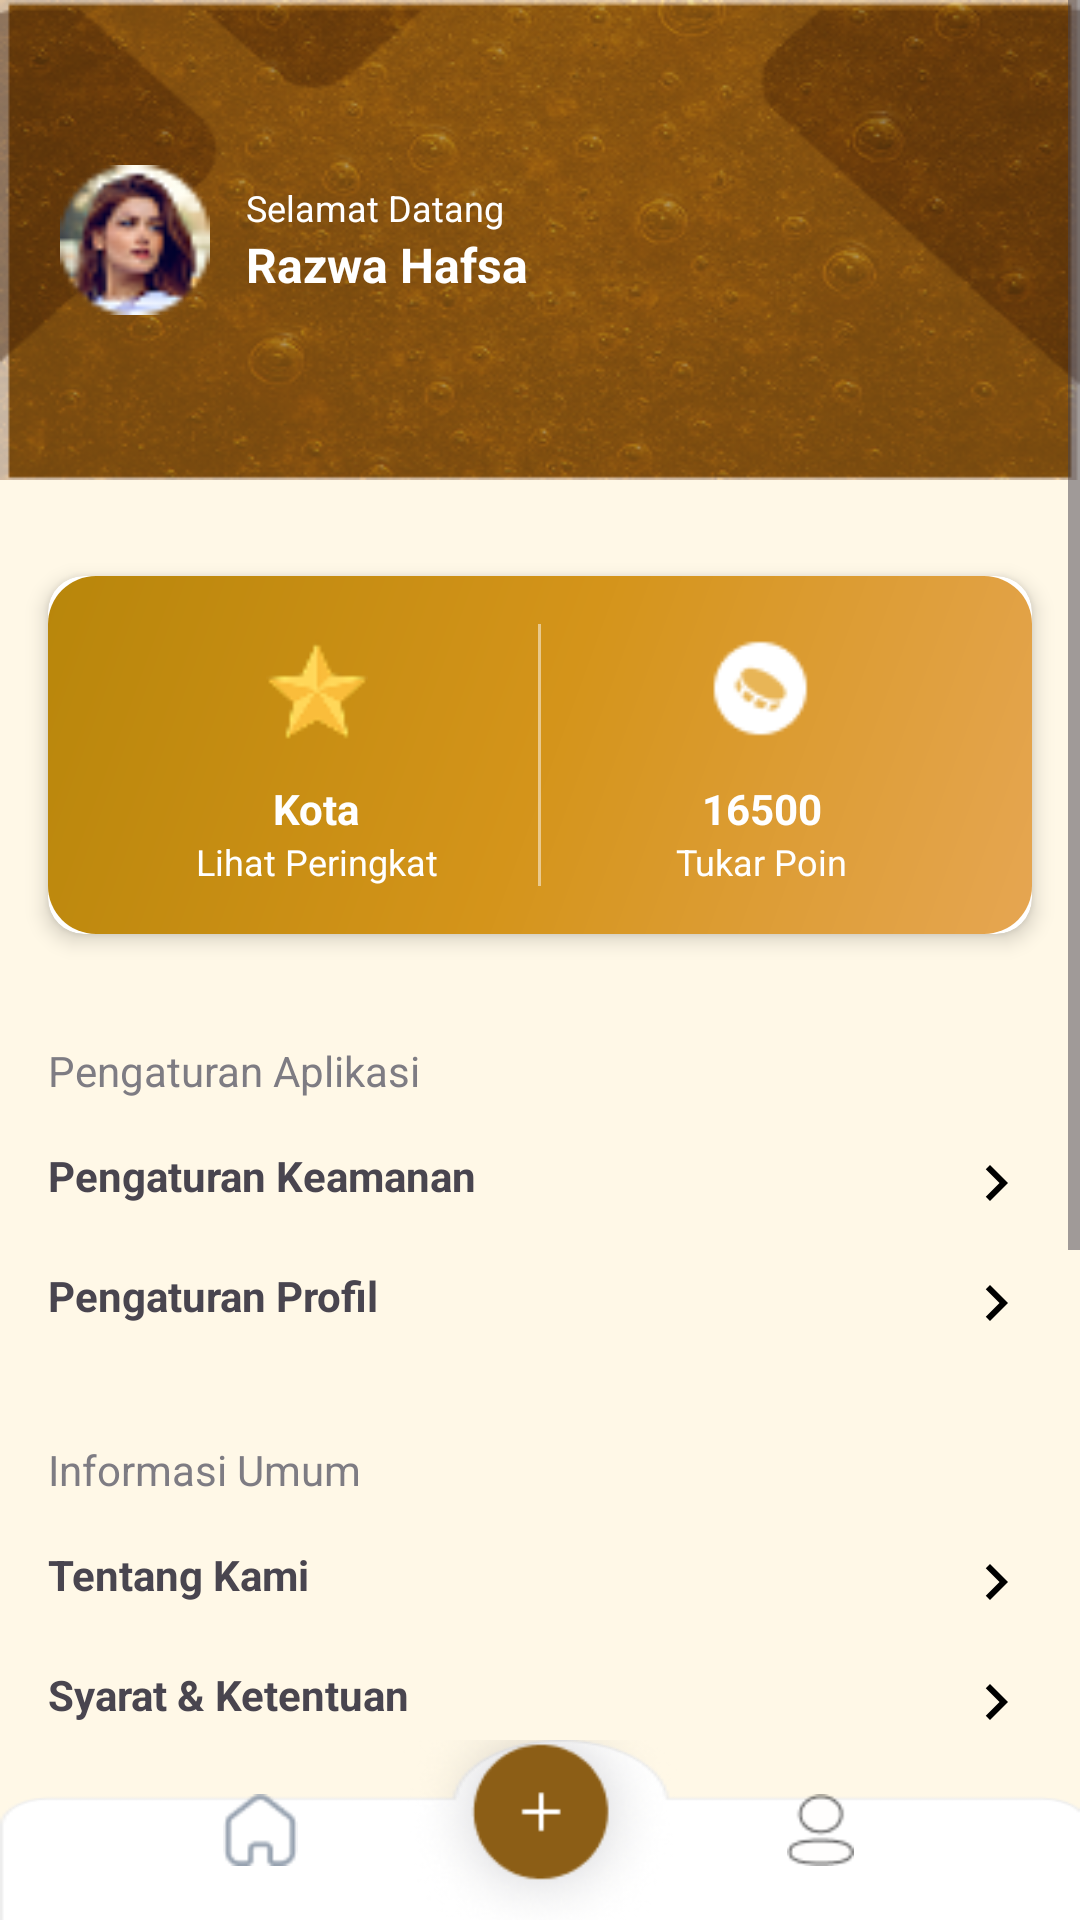

Where icons sit on this 1080 x 1920 app screen, as (x1, y1, x2, y2):
coin: (713, 641, 808, 736)
home: (225, 1794, 296, 1866)
profile: (787, 1794, 854, 1866)
star: (269, 645, 365, 738)
